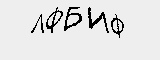Б: (63, 4, 83, 32)
И: (86, 7, 110, 33)
Л: (33, 13, 46, 34)
Ф: (47, 5, 64, 34), (108, 13, 125, 37)
